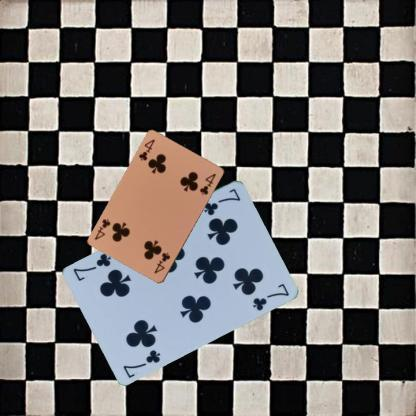4c: (136, 136, 156, 162), (152, 250, 172, 275)
7c: (121, 346, 162, 380), (201, 186, 242, 216)
